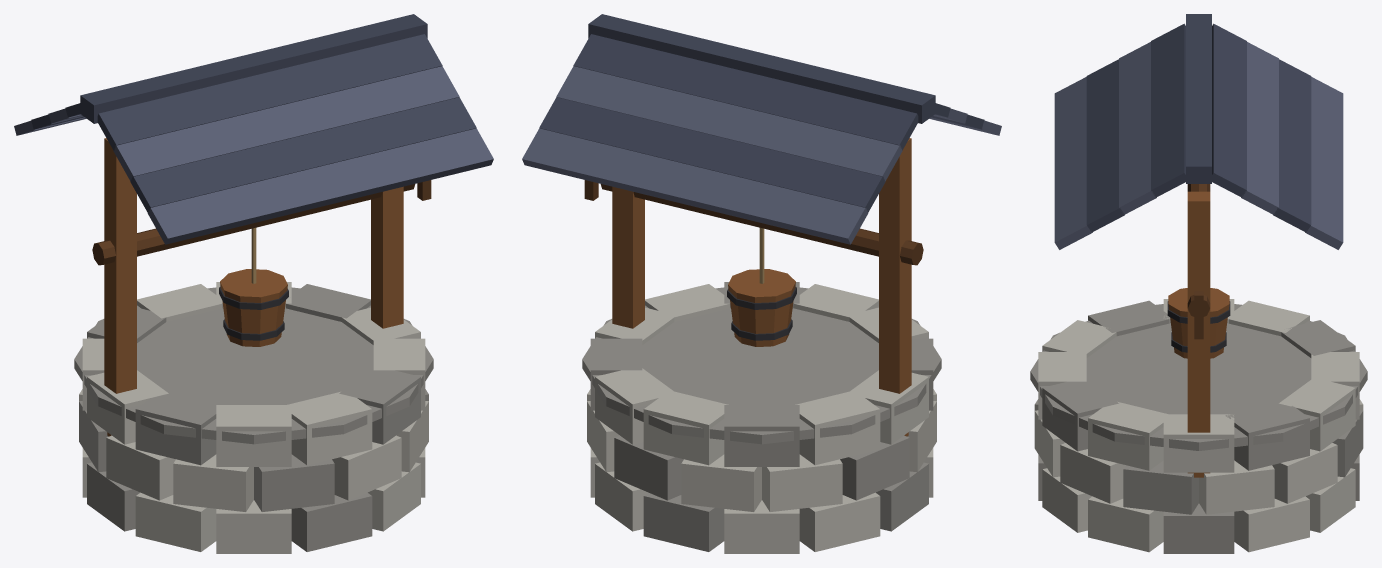
Rendered from Stone_Well.fbx.
3 views of the same model, side by side, from view 1: azimuth 30°, elevation 25°; view 2: azimuth 150°, elevation 25°; view 3: azimuth 270°, elevation 25° (orthographic). The views are drawn at different scales.
Visible parts, largest first — view 1: Stone_Well; view 2: Stone_Well; view 3: Stone_Well.
Boxes of the visible parts, <box> form: Stone_Well: <box>14,14,493,553</box>; Stone_Well: <box>522,14,1001,553</box>; Stone_Well: <box>1030,14,1367,553</box>.
Bounding box in the file's own units: 2.3 × 2.72 × 2.1.
